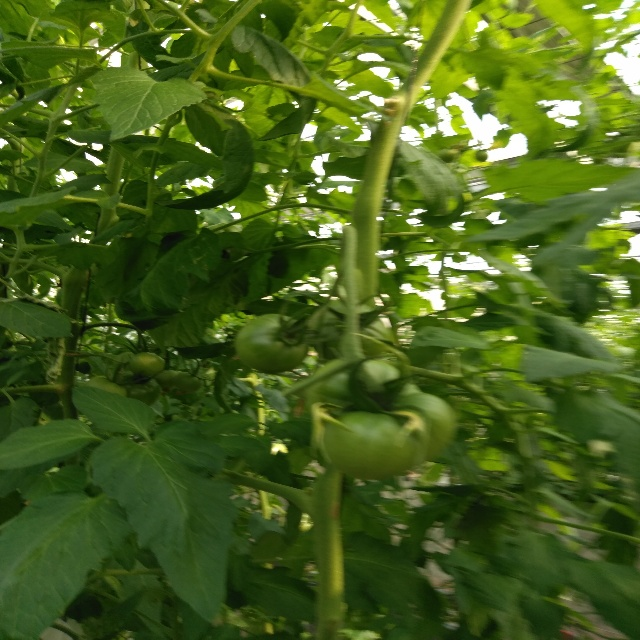b_green: (305, 356, 459, 481), (306, 299, 388, 360), (236, 314, 310, 373)
